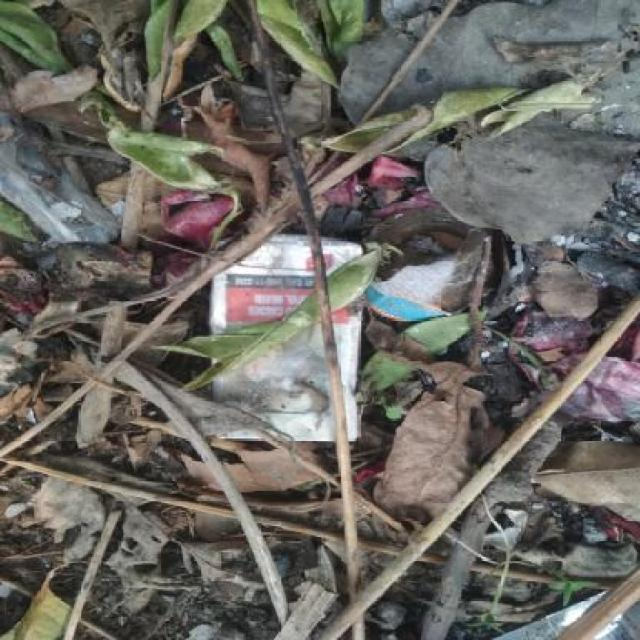garbage: (0, 8, 636, 225), (71, 449, 620, 629), (183, 222, 444, 452), (14, 271, 190, 426)
